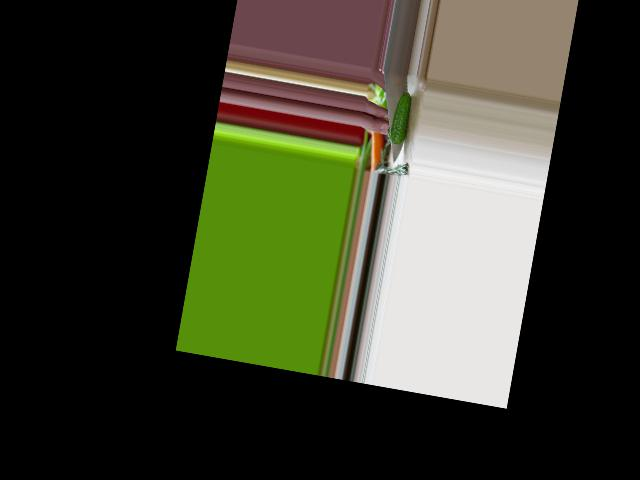cucumber: (389, 91, 413, 146)
